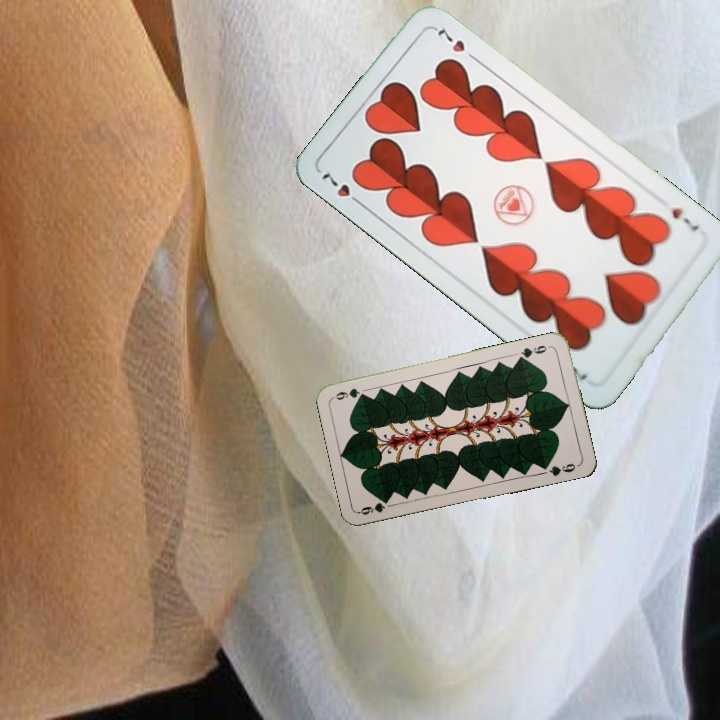G9: (515, 341, 554, 363), (356, 496, 392, 517)
H7: (317, 169, 367, 210), (667, 203, 702, 235)
